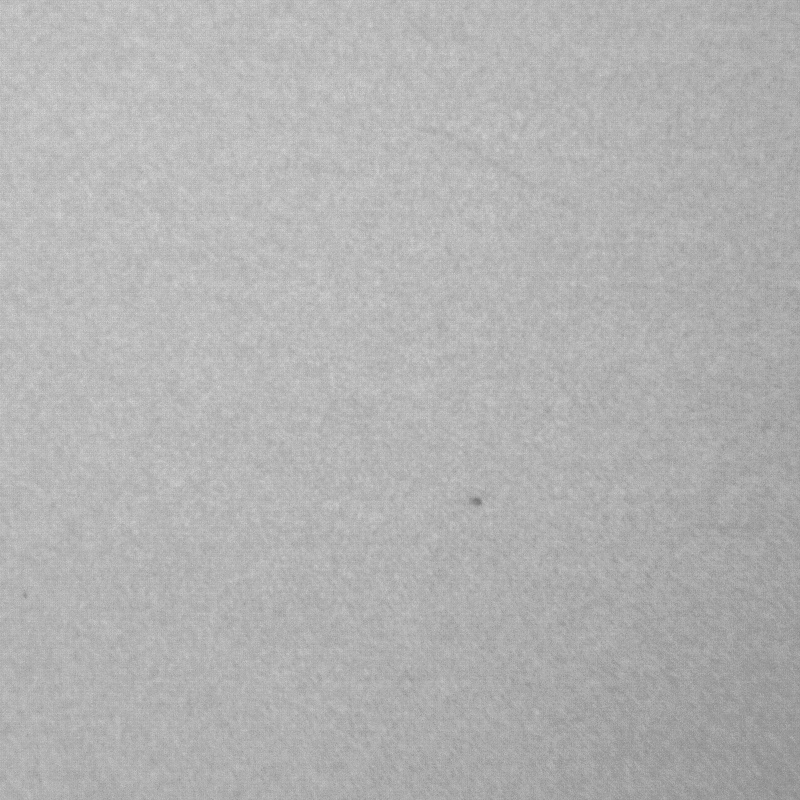defect: (472, 494, 488, 513)
